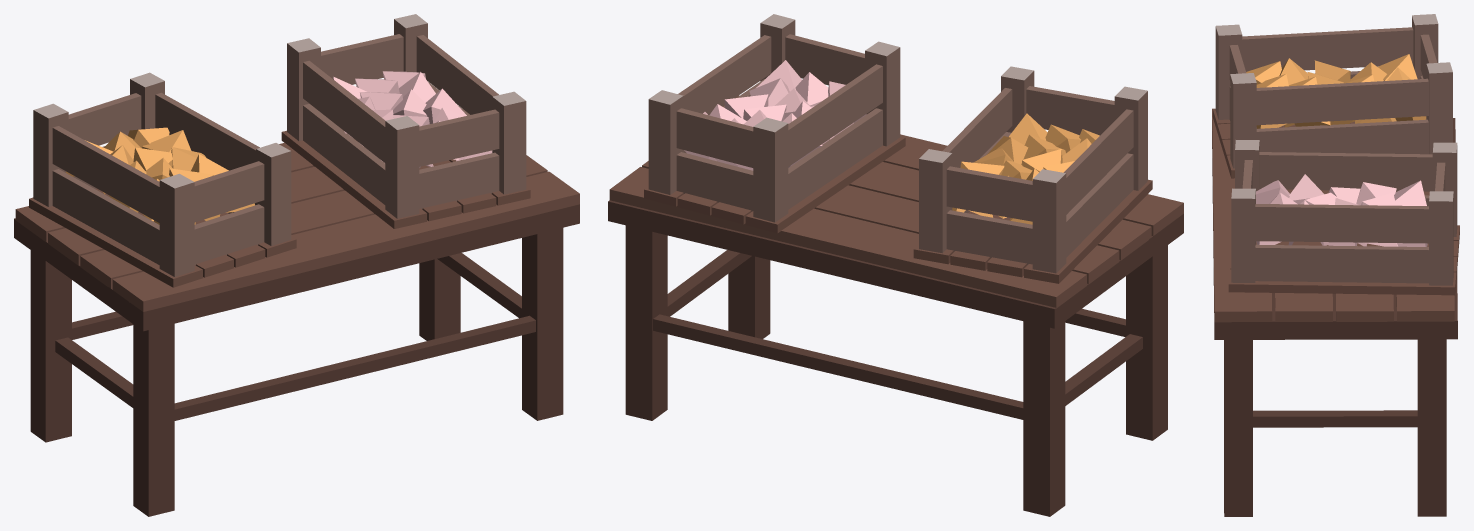
The model's file is props_049.glb.
3 views of the same model, side by side, from view 1: azimuth 30°, elevation 25°; view 2: azimuth 150°, elevation 25°; view 3: azimuth 270°, elevation 25° (orthographic). The views are drawn at different scales.
Parts seen in each view (by area): view 1: props_049; view 2: props_049; view 3: props_049.
Part boxes in pixels (x1,y1,x2,y2): props_049: (14,14,579,516); props_049: (608,14,1183,516); props_049: (1212,14,1459,516).
Size of the model in its own units: 3.35 by 2.37 by 1.72.
1 material, 1 textured.
